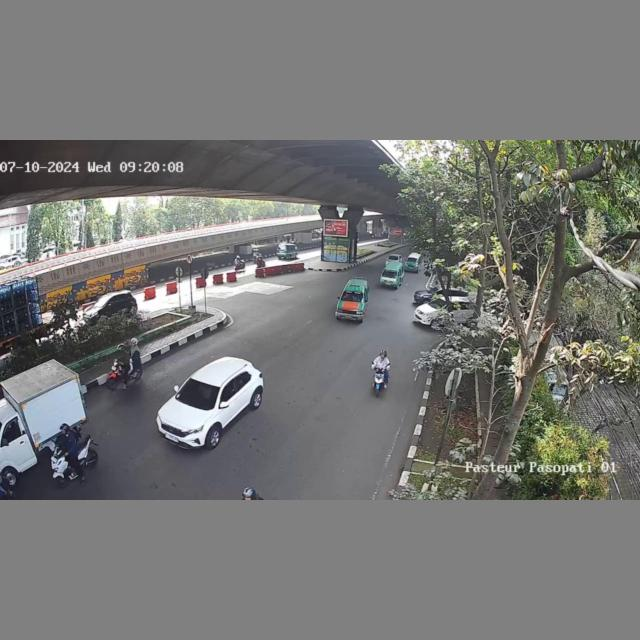windshield: (177, 376, 220, 408), (340, 290, 363, 302)
